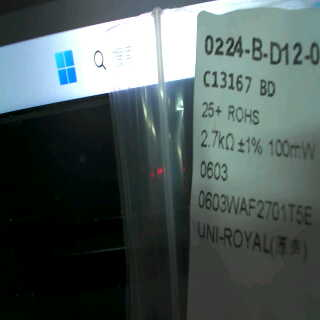2.7kR: (197, 125, 237, 155)
